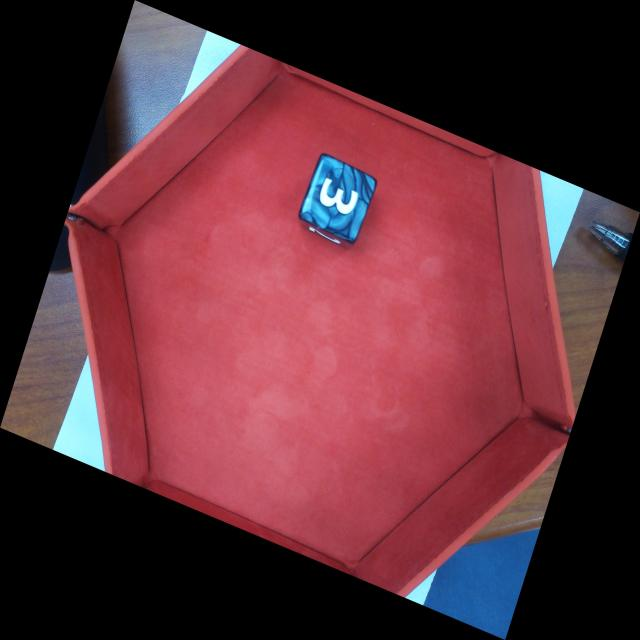dice: (302, 152, 380, 243)
